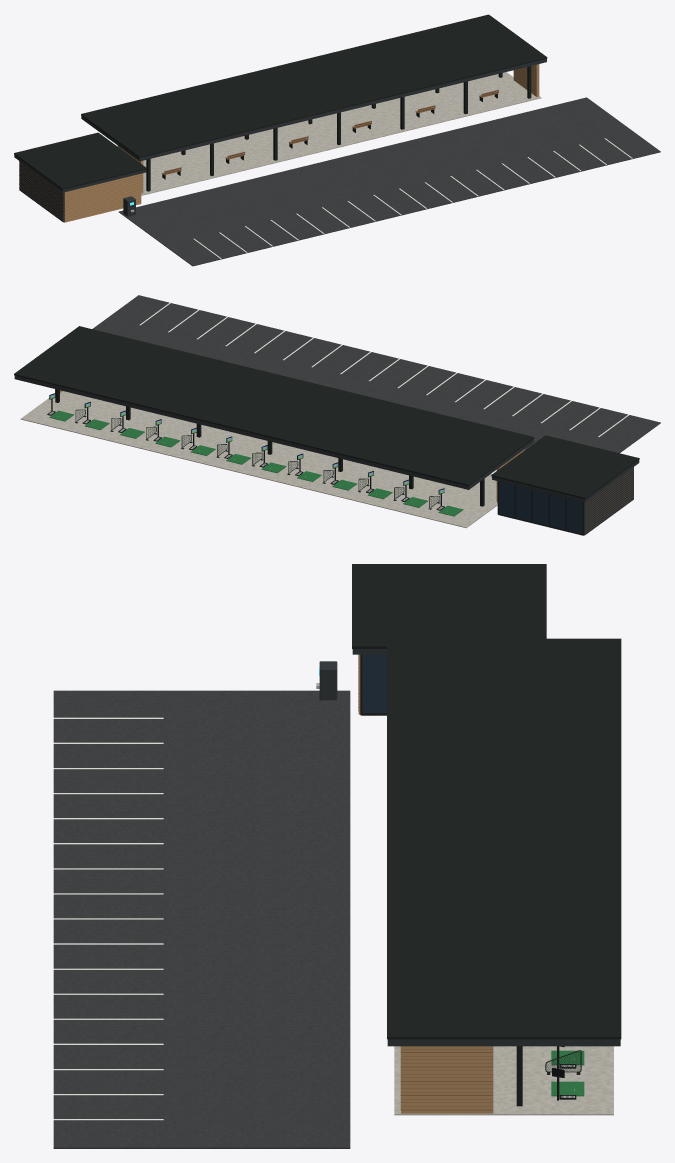
The model's file is driving_range_l2.gltf.
3 views of the same model, one above another, from view 1: azimuth 30°, elevation 25°; view 2: azimuth 150°, elevation 25°; view 3: azimuth 270°, elevation 25° (orthographic). The views are drawn at different scales.
Parts seen in each view (by area): view 1: BASE.004, ROOF.004, WALLS_HIGH.004; view 2: BASE.004, ROOF.004, WALLS_HIGH.004; view 3: BASE.004, ROOF.004, WALLS_HIGH.004.
Part boxes in pixels (left/top/right/bottom): BASE.004: left=64, top=72, right=660, bottom=266; ROOF.004: left=14, top=14, right=547, bottom=192; WALLS_HIGH.004: left=19, top=64, right=539, bottom=222; BASE.004: left=20, top=295, right=660, bottom=535; ROOF.004: left=14, top=326, right=639, bottom=502; WALLS_HIGH.004: left=55, top=389, right=633, bottom=535; BASE.004: left=53, top=661, right=613, bottom=1148; ROOF.004: left=352, top=564, right=621, bottom=1046; WALLS_HIGH.004: left=358, top=654, right=522, bottom=1113.
Size of the model in its own units: 55.03 by 4.14 by 25.83.
18 materials, 3 textured.
